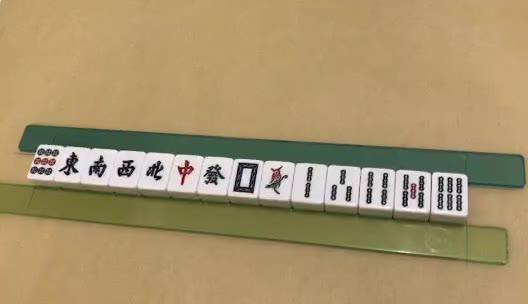1s: (265, 166, 287, 194)
1z: (58, 152, 80, 174)
2s: (304, 167, 313, 198)
2z: (87, 156, 106, 175)
3s: (331, 169, 353, 203)
3z: (117, 160, 135, 177)
4s: (367, 172, 389, 205)
4z: (146, 159, 164, 182)
5s: (403, 176, 426, 208)
5z: (235, 162, 257, 193)
6s: (438, 177, 461, 210)
6z: (203, 161, 225, 184)
7z: (178, 161, 195, 184)
9p: (30, 146, 58, 175)
